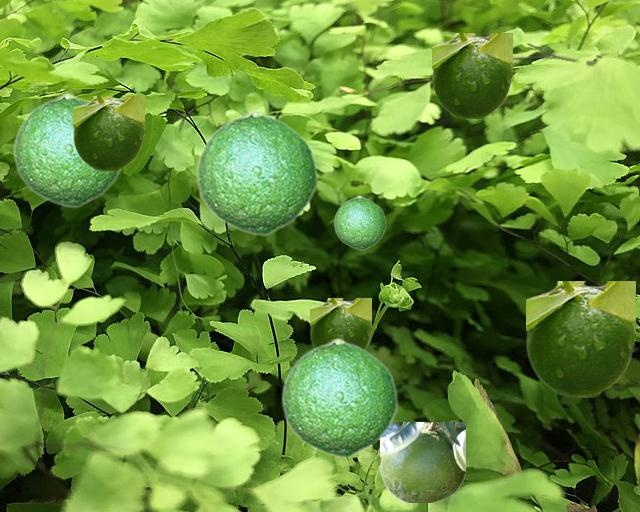dalandan: (195, 109, 317, 235), (280, 337, 397, 457), (12, 92, 123, 207), (526, 281, 634, 396), (432, 33, 511, 118), (380, 422, 464, 501), (73, 96, 143, 170), (310, 298, 370, 348), (333, 195, 385, 249)
